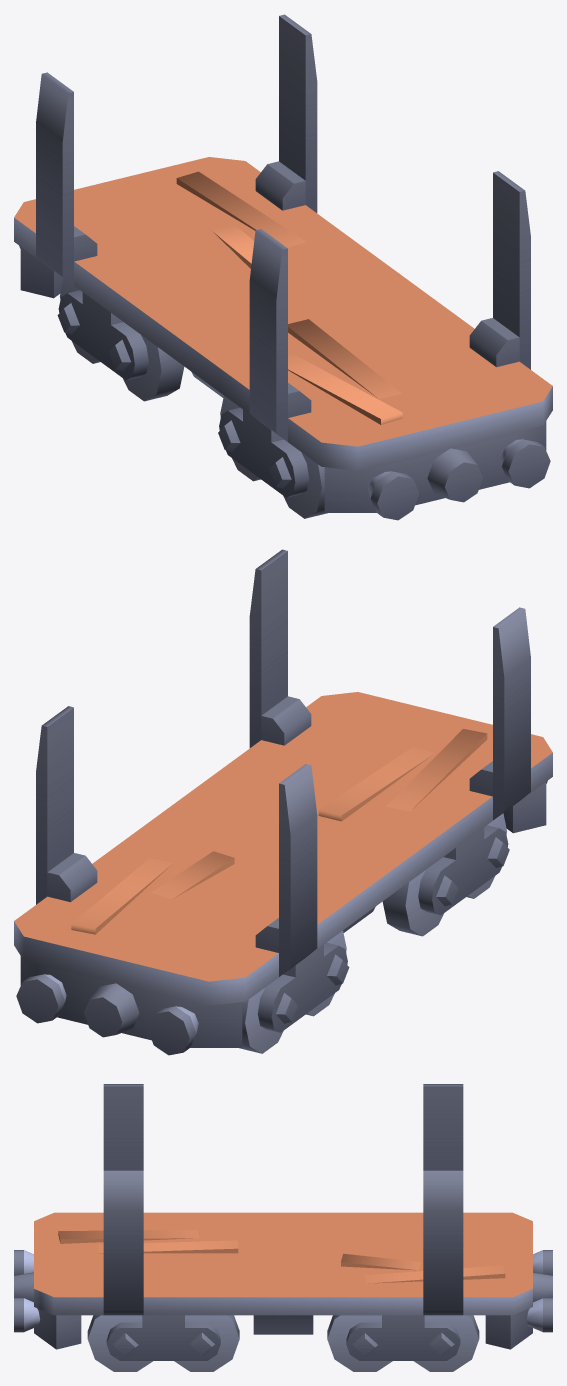
File: kenney-train-train-carriage-flatbed-wood.glb
3 renders of one model, top to bottom at view 1: azimuth 30°, elevation 25°; view 2: azimuth 150°, elevation 25°; view 3: azimuth 270°, elevation 25°, orthographic. The views are drawn at different scales.
Parts seen in each view (by area): view 1: train-carriage-flatbed-wood, wheels-back, wheels-front; view 2: train-carriage-flatbed-wood, wheels-front, wheels-back; view 3: train-carriage-flatbed-wood, wheels-front, wheels-back.
Boxes of the visible parts, left/top/right/bottom form: train-carriage-flatbed-wood: left=14, top=14, right=552, bottom=520; wheels-back: left=57, top=278, right=184, bottom=401; wheels-front: left=218, top=396, right=327, bottom=518; train-carriage-flatbed-wood: left=14, top=549, right=552, bottom=1055; wheels-front: left=382, top=813, right=509, bottom=936; wheels-back: left=239, top=931, right=349, bottom=1053; train-carriage-flatbed-wood: left=14, top=1084, right=552, bottom=1349; wheels-front: left=87, top=1315, right=239, bottom=1371; wheels-back: left=327, top=1315, right=479, bottom=1371.
Size of the model in its own units: 1.1 by 1.16 by 2.7.
1 material, 1 textured.
